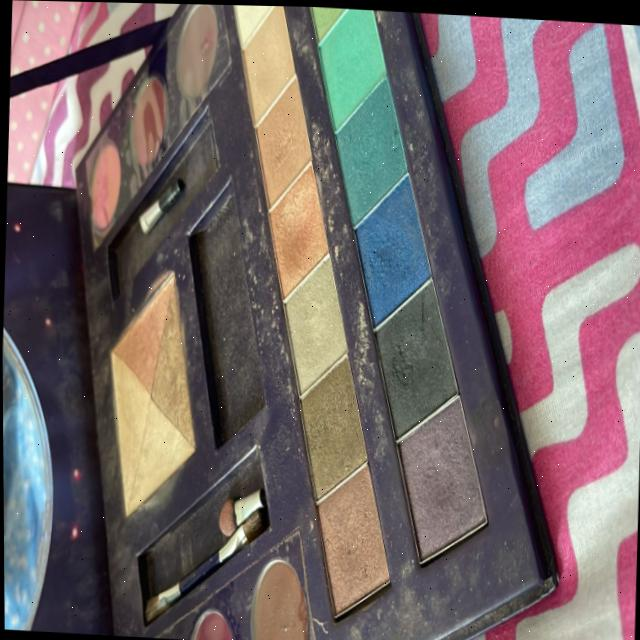brush: (112, 452, 277, 640)
highlighter: (209, 4, 547, 640)
lip shade: (47, 1, 227, 251)
